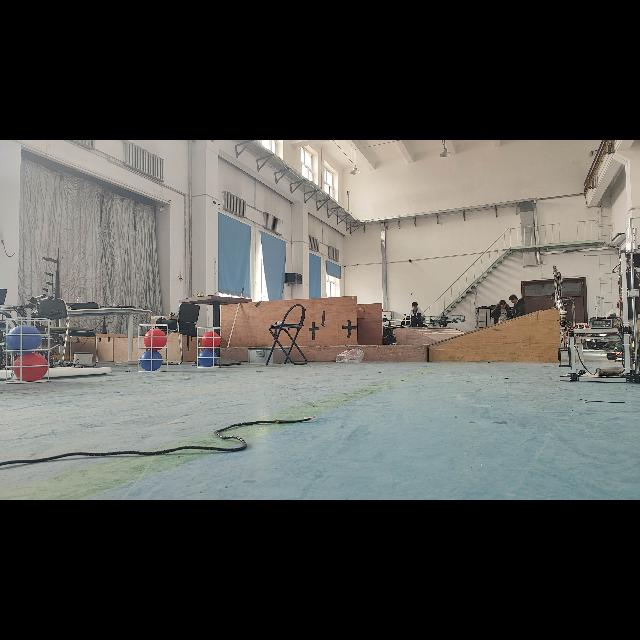B: (6, 325, 44, 351), (138, 350, 164, 370), (197, 349, 217, 367)
R: (14, 353, 51, 381), (144, 330, 166, 348), (202, 331, 220, 349)
S: (1, 312, 62, 388), (134, 323, 174, 375), (192, 324, 224, 371)
